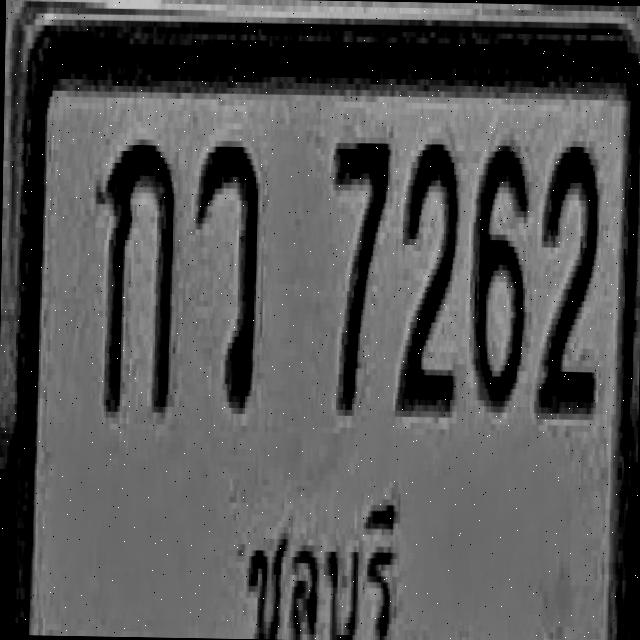10GorGai: (100, 138, 175, 412)
2: (537, 140, 599, 414), (397, 138, 459, 411)
46WorWaen: (192, 140, 258, 408)
6: (470, 139, 527, 406)
7: (330, 136, 389, 410)
Chonburi: (234, 479, 409, 640)
